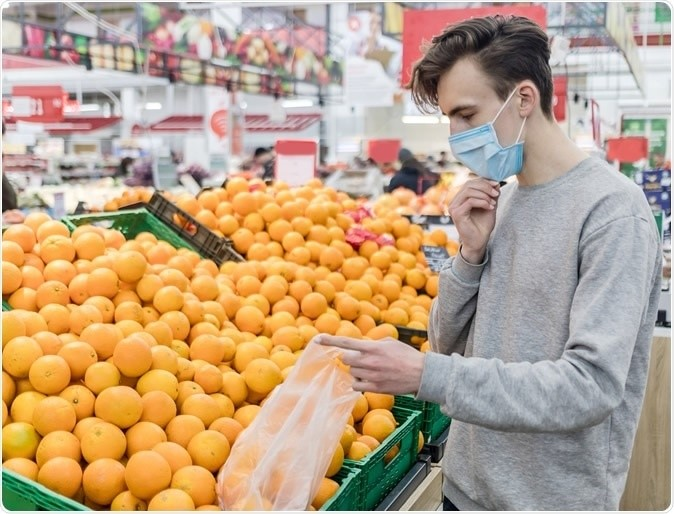face_with_mask: (435, 58, 544, 195)
